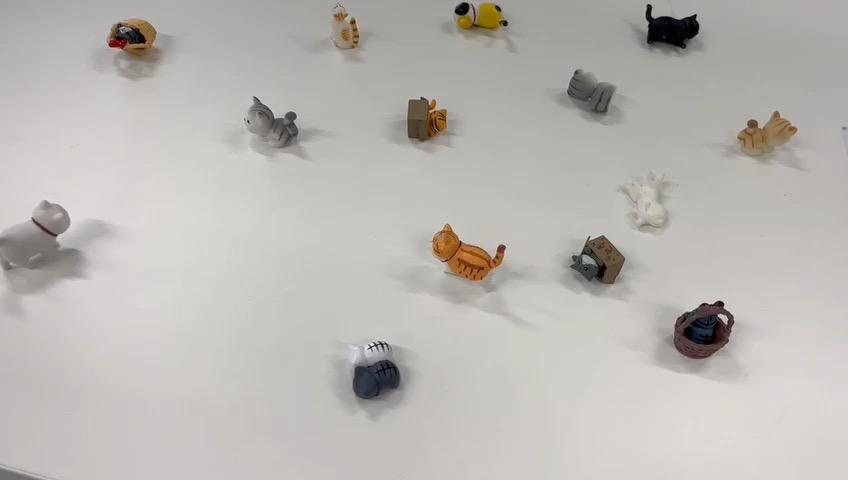pet: (0, 193, 82, 281), (428, 219, 507, 285), (235, 87, 308, 154), (669, 296, 739, 361), (342, 334, 402, 406), (730, 103, 799, 163), (620, 167, 672, 233), (641, 0, 705, 53), (563, 62, 621, 120), (102, 12, 161, 67), (570, 230, 626, 287), (404, 88, 452, 142), (320, 2, 365, 56), (454, 0, 508, 41)
